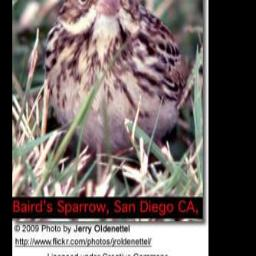Sparrow: (40, 0, 192, 190)
